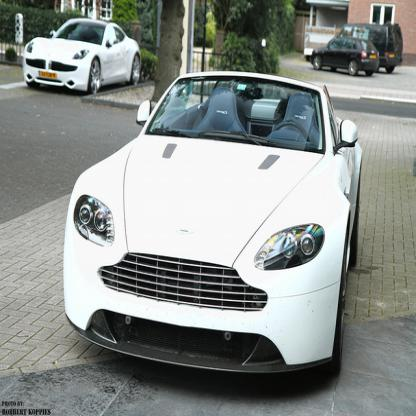Vehicle: (62, 71, 364, 389)
